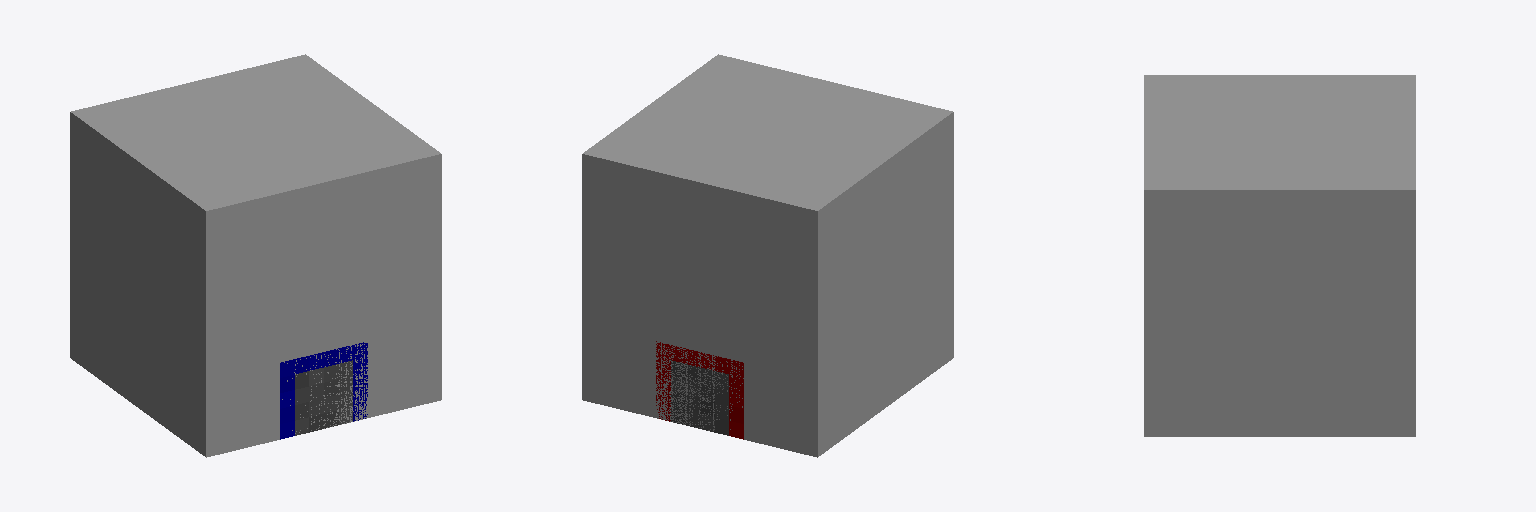
3 views of the same model, side by side, from view 1: azimuth 30°, elevation 25°; view 2: azimuth 150°, elevation 25°; view 3: azimuth 270°, elevation 25° (orthographic).
Visible parts, largest first — view 1: Minecraft_Block_Cube, main; view 2: Minecraft_Block_Cube, main; view 3: Minecraft_Block_Cube.
Boxes of the visible parts, x1,y1,x2,y2 form: Minecraft_Block_Cube: [70, 54, 441, 457]; main: [280, 342, 367, 439]; Minecraft_Block_Cube: [582, 54, 953, 457]; main: [656, 341, 743, 439]; Minecraft_Block_Cube: [1144, 75, 1415, 436].
Size of the model in its own units: 1 by 1 by 1.
2 materials, 1 textured.